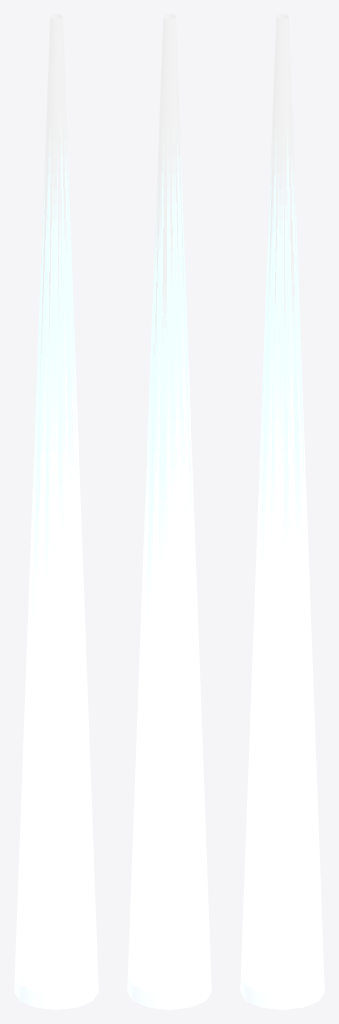
Rendered from sfx_mura0022_tabukai_CarnivalFever02.glb.
3 renders of one model, left to right at view 1: azimuth 90°, elevation 25°; view 2: azimuth 210°, elevation 25°; view 3: azimuth 270°, elevation 25°, orthographic.
Visible parts, largest first — view 1: sfx_mura0022_tabukai_CarnivalFever02_obj0; view 2: sfx_mura0022_tabukai_CarnivalFever02_obj0; view 3: sfx_mura0022_tabukai_CarnivalFever02_obj0.
Part boxes in pixels (x1,y1,x2,y2): sfx_mura0022_tabukai_CarnivalFever02_obj0: (14, 14, 98, 1009); sfx_mura0022_tabukai_CarnivalFever02_obj0: (127, 14, 211, 1009); sfx_mura0022_tabukai_CarnivalFever02_obj0: (240, 14, 324, 1009).
Bounding box in the file's own units: 0.7783 × 9.9 × 0.7783.
Materials: 1 (1 with a texture image).
